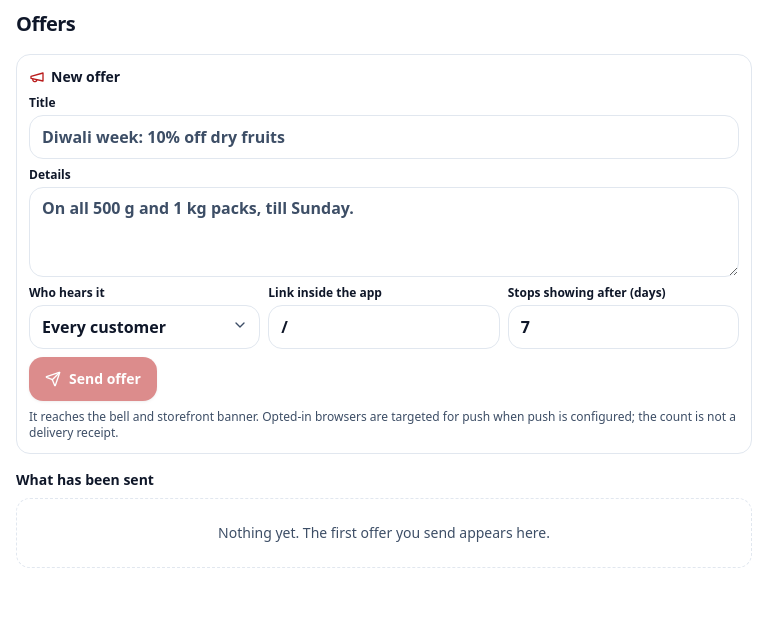
Test: AdminOffersPage › sends an offer to one tier and reports who it reached
This screenshot has width=769, height=633.
Type "Gold members: 10% off ghee" into the field labelled "Title" at x=384, y=137, box [29, 115, 739, 159]
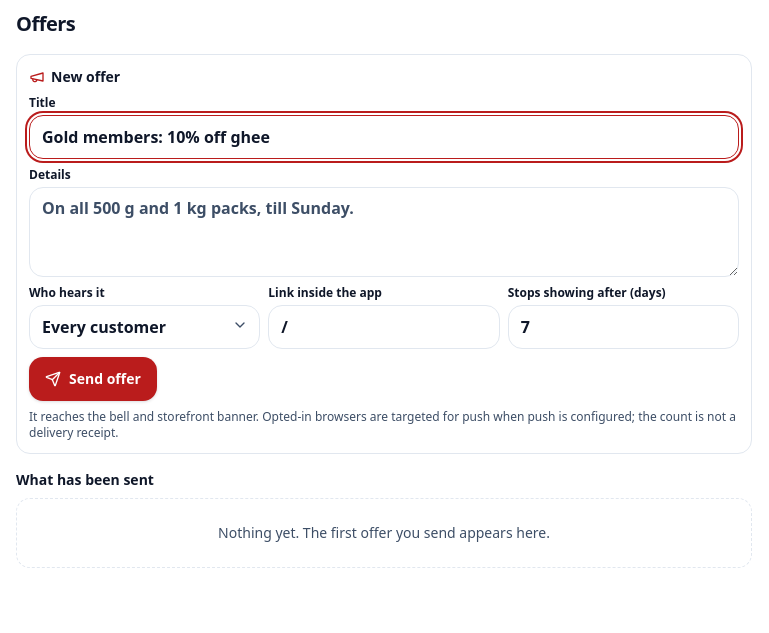
Select "Gold members" in the dropdown labelled "Who hears it" at x=145, y=327, box [29, 305, 260, 349]
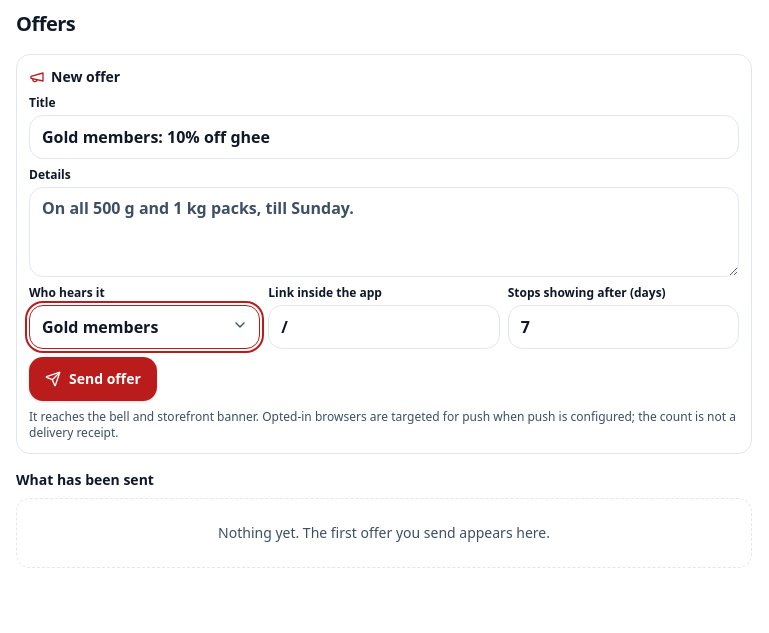
Click the button "Send offer" at x=93, y=379, box [29, 357, 157, 401]
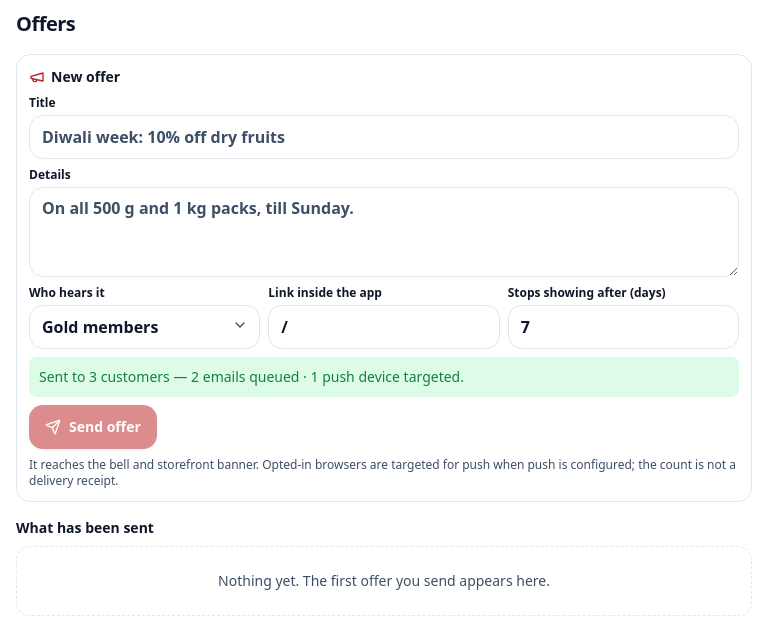
Now the text "Sent to 3 customers — 2 emails queued · 1 push device targeted." is shown, box [29, 357, 739, 397]
